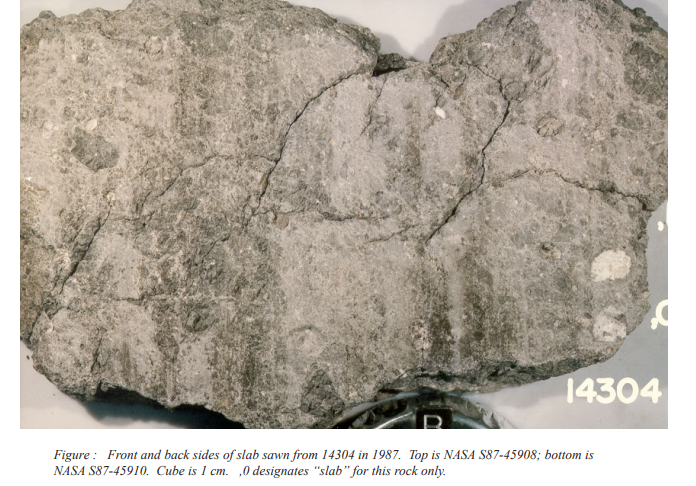Breccia: (19, 2, 648, 370), (256, 46, 626, 357)
